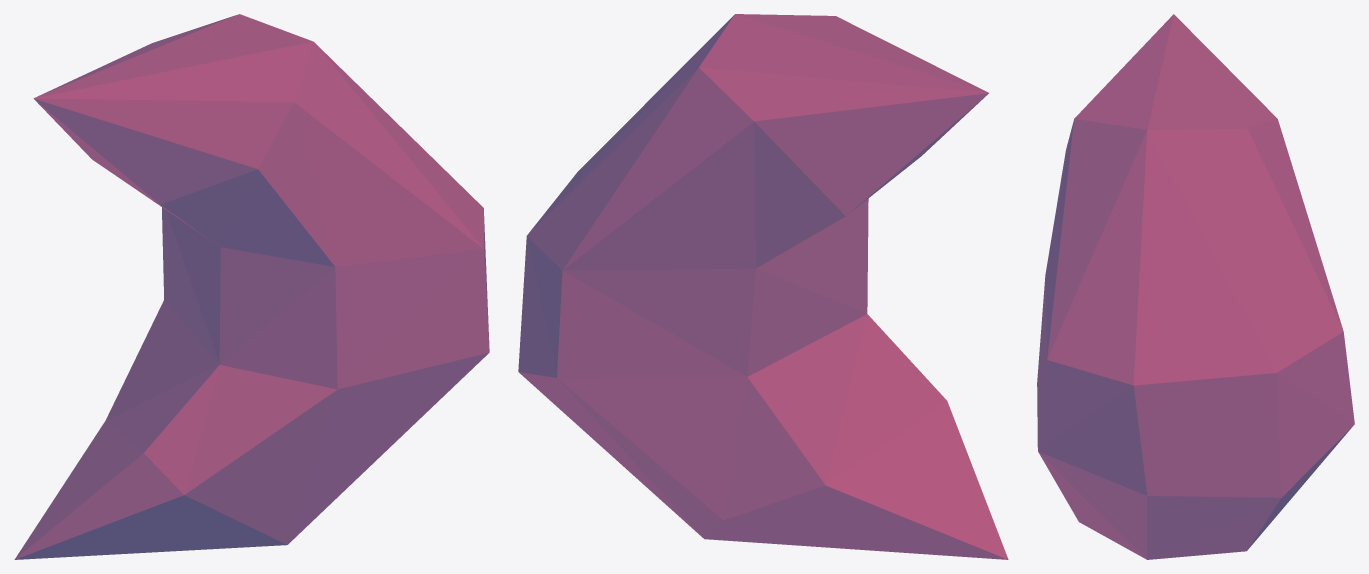
File: gem.glb
3 views of the same model, side by side, from view 1: azimuth 30°, elevation 25°; view 2: azimuth 150°, elevation 25°; view 3: azimuth 270°, elevation 25° (orthographic). The views are drawn at different scales.
Parts seen in each view (by area): view 1: gem; view 2: gem; view 3: gem.
Boxes of the visible parts, bbox=[...] form: gem: bbox=[14, 14, 489, 559]; gem: bbox=[518, 14, 1008, 559]; gem: bbox=[1037, 14, 1354, 559].
Bounding box in the file's own units: 0.2738 × 0.2763 × 0.1831.
